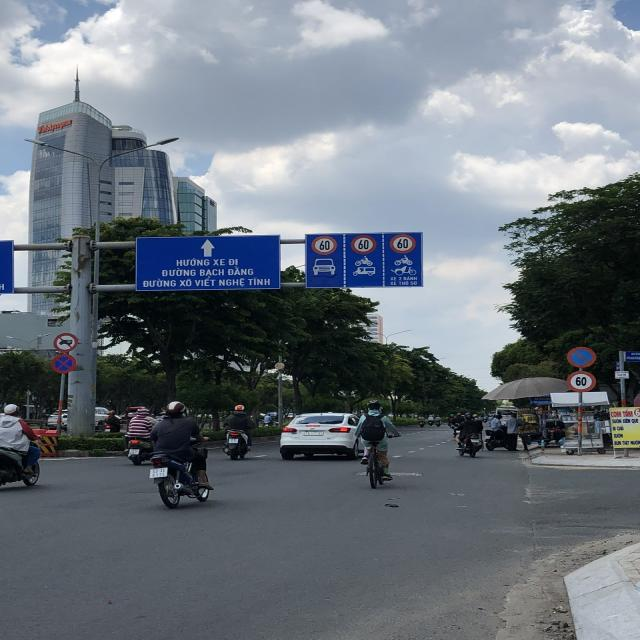Bien bao cam do xe: (563, 344, 596, 368)
Bien bao toc do toi da cho phep: (348, 231, 381, 256), (389, 230, 418, 254), (568, 369, 598, 392), (312, 233, 340, 257)
